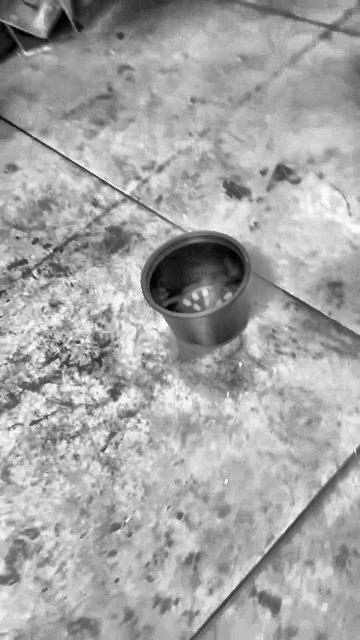pot: (140, 231, 251, 346)
